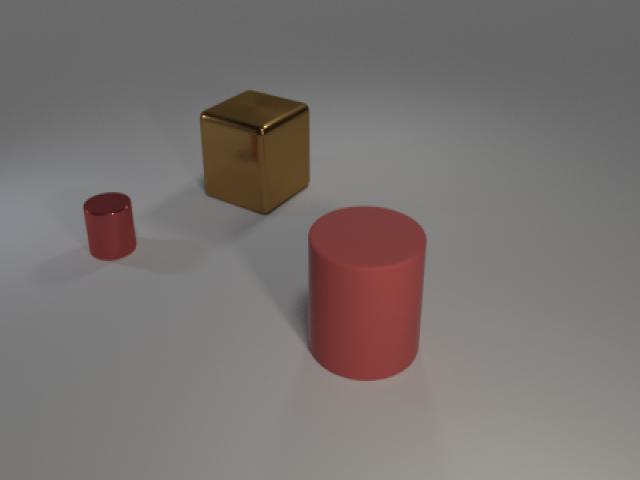cylinder: (302, 199, 432, 390), (72, 181, 151, 274)
